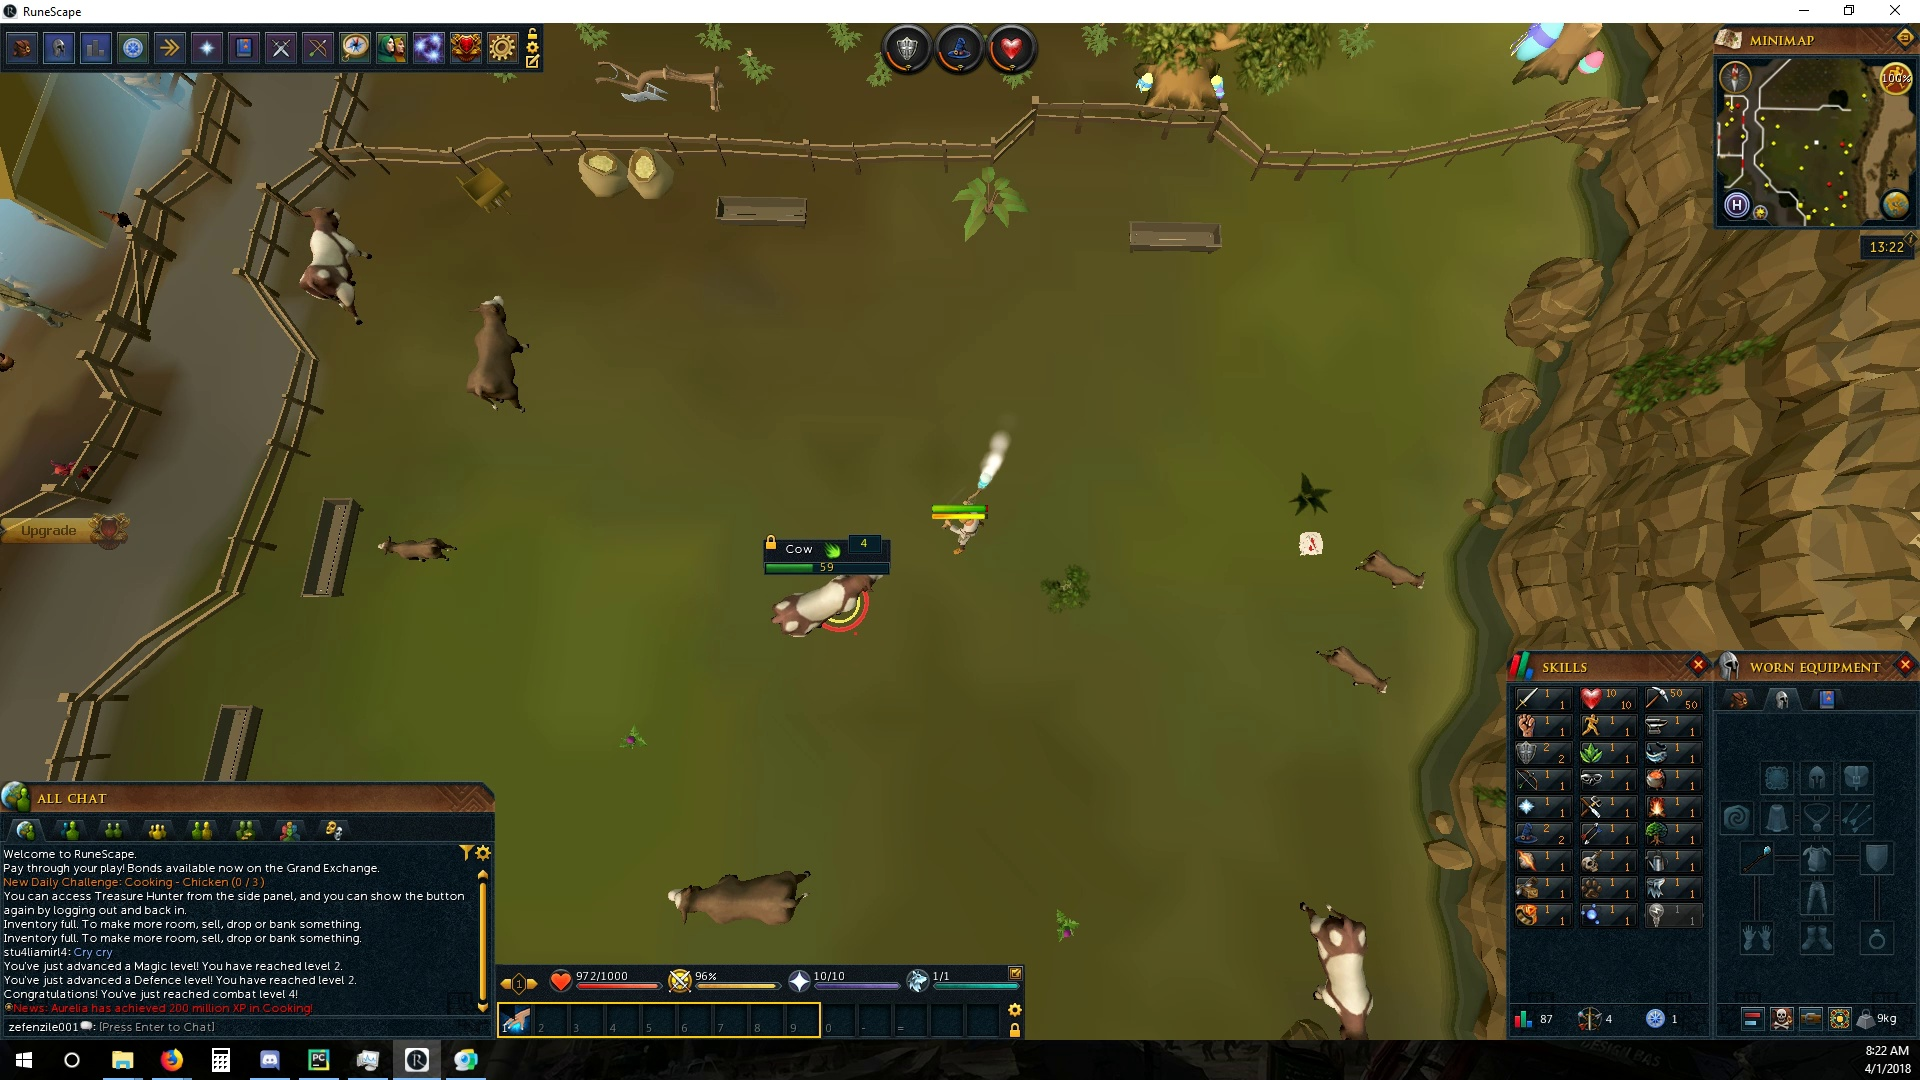calf: (1312, 645, 1393, 698), (1356, 549, 1431, 593), (375, 534, 462, 568)
cow: (1296, 895, 1379, 1042), (291, 203, 371, 327), (666, 866, 822, 924), (465, 294, 534, 413), (770, 576, 895, 640)
cow_drop: (1294, 529, 1327, 556)
